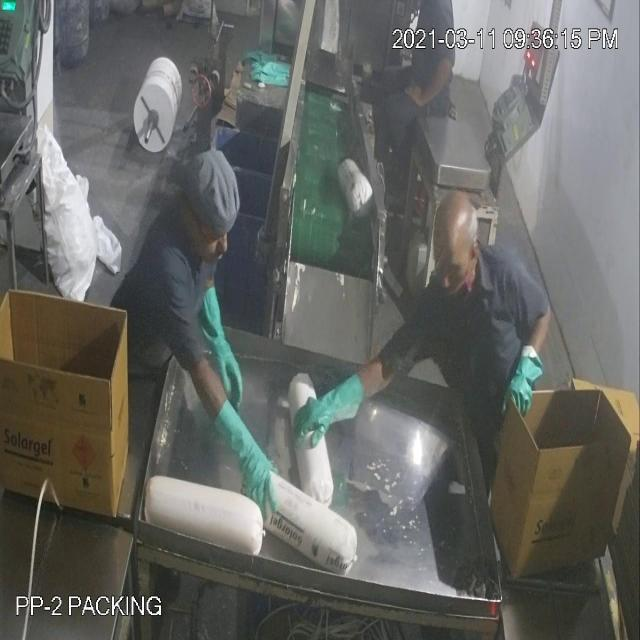Gloves: (53, 62, 522, 464)
